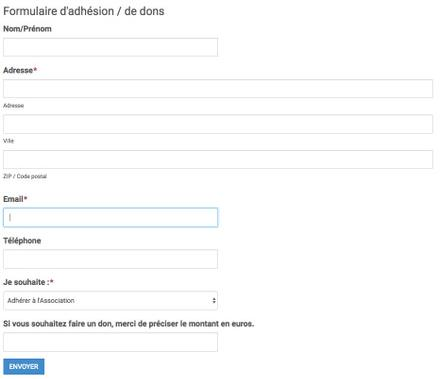button: (2, 358, 45, 375)
field: (2, 77, 433, 100), (3, 112, 434, 135), (2, 148, 435, 170), (1, 330, 255, 354), (2, 205, 219, 230), (0, 247, 218, 271), (2, 36, 218, 58), (2, 289, 219, 310)
field_with_label: (1, 66, 435, 101), (2, 102, 435, 137), (1, 138, 437, 171), (0, 319, 257, 355), (0, 235, 219, 272), (0, 195, 220, 231), (0, 25, 219, 60), (0, 278, 220, 310)
